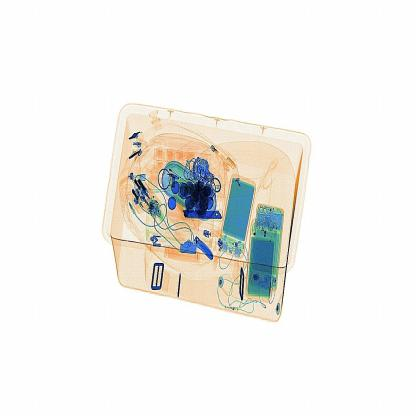pliers: (178, 207, 224, 226)
